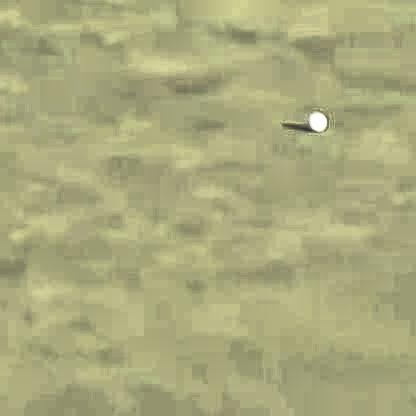golfball: (303, 109, 325, 128)
